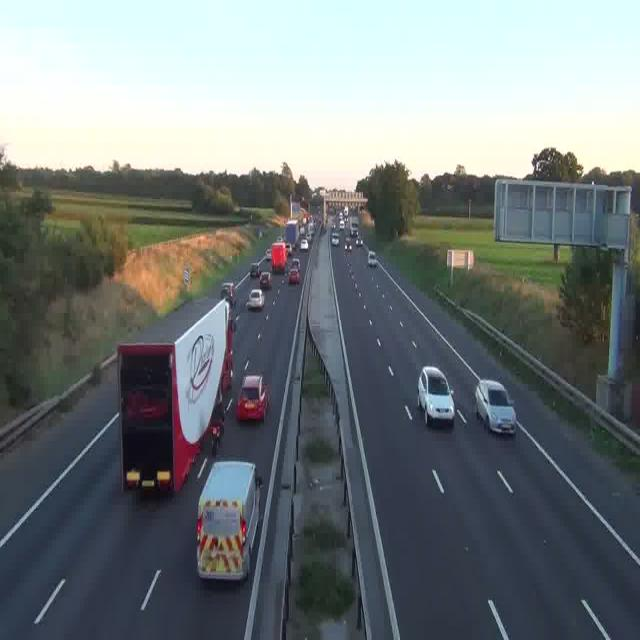car: (474, 380, 516, 434), (417, 366, 454, 427), (237, 374, 269, 420), (220, 283, 236, 305), (248, 288, 264, 309), (251, 265, 264, 283), (287, 266, 299, 284), (254, 257, 266, 275), (367, 249, 378, 266), (300, 237, 308, 250), (347, 238, 355, 249), (332, 235, 339, 246)
truck: (118, 298, 235, 493), (196, 460, 259, 580), (271, 241, 287, 273), (284, 218, 298, 248)
